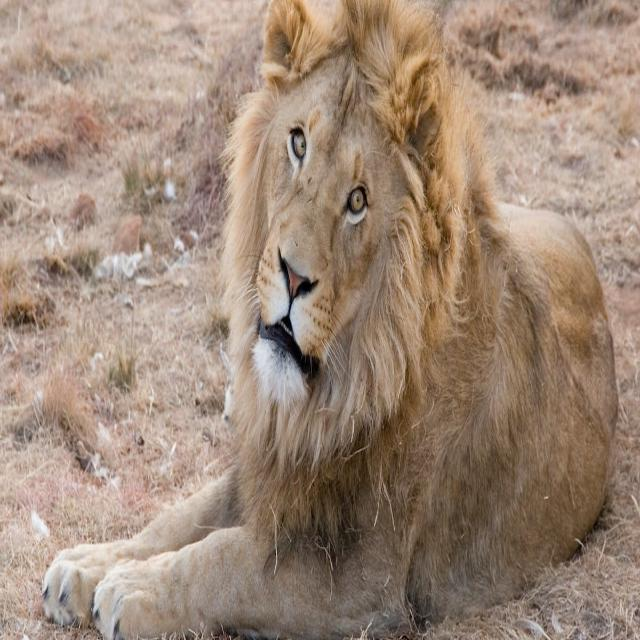lions: (2, 2, 640, 639)
